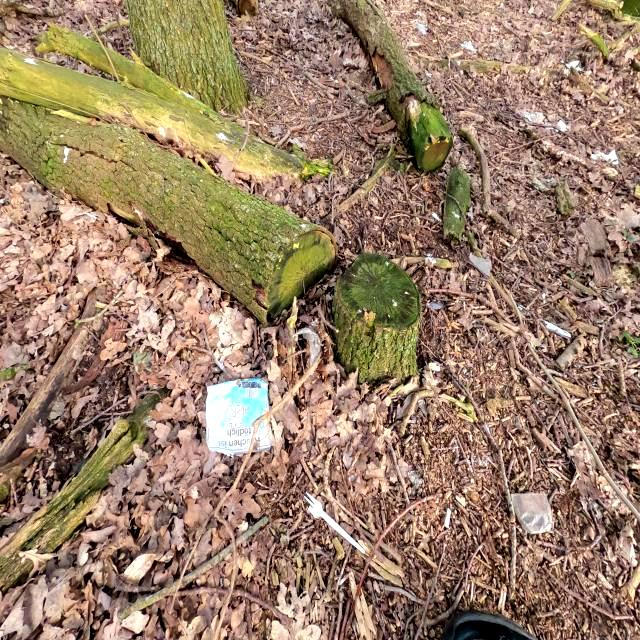Paper: (204, 376, 272, 459)
